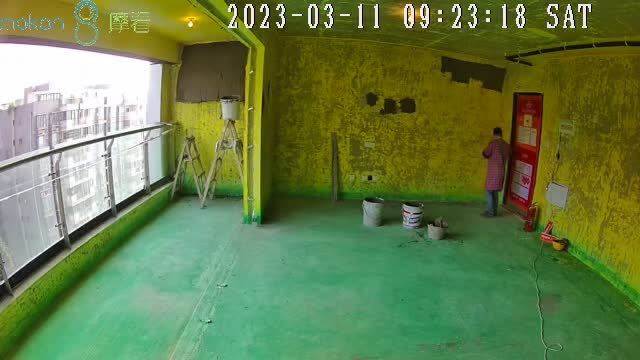people: (479, 127, 512, 217)
window: (2, 42, 175, 255)
